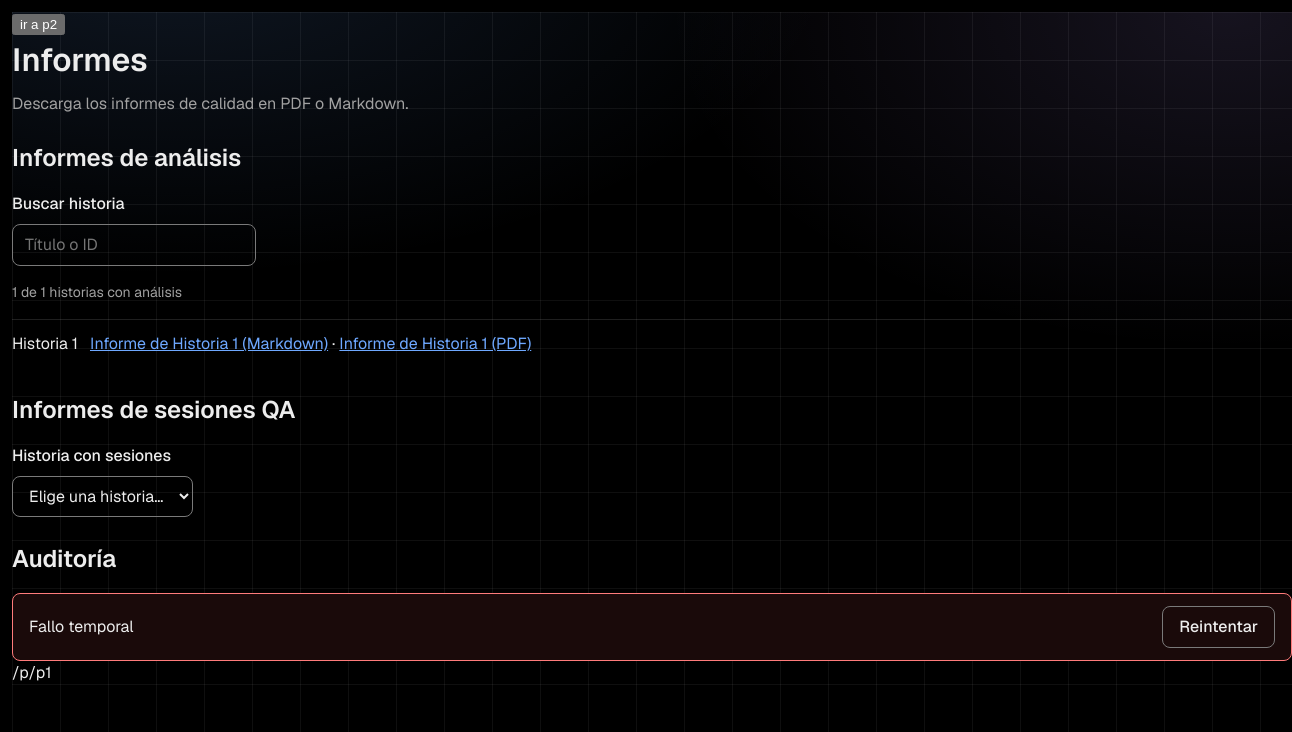
Test: ReportsPage › un error de auditoría permite reintentar
Expected: the message "Fallo temporal Reintentar" is shown, [12, 593, 1291, 661]
Click the button "Reintentar" at [1219, 627], box [1162, 606, 1275, 648]
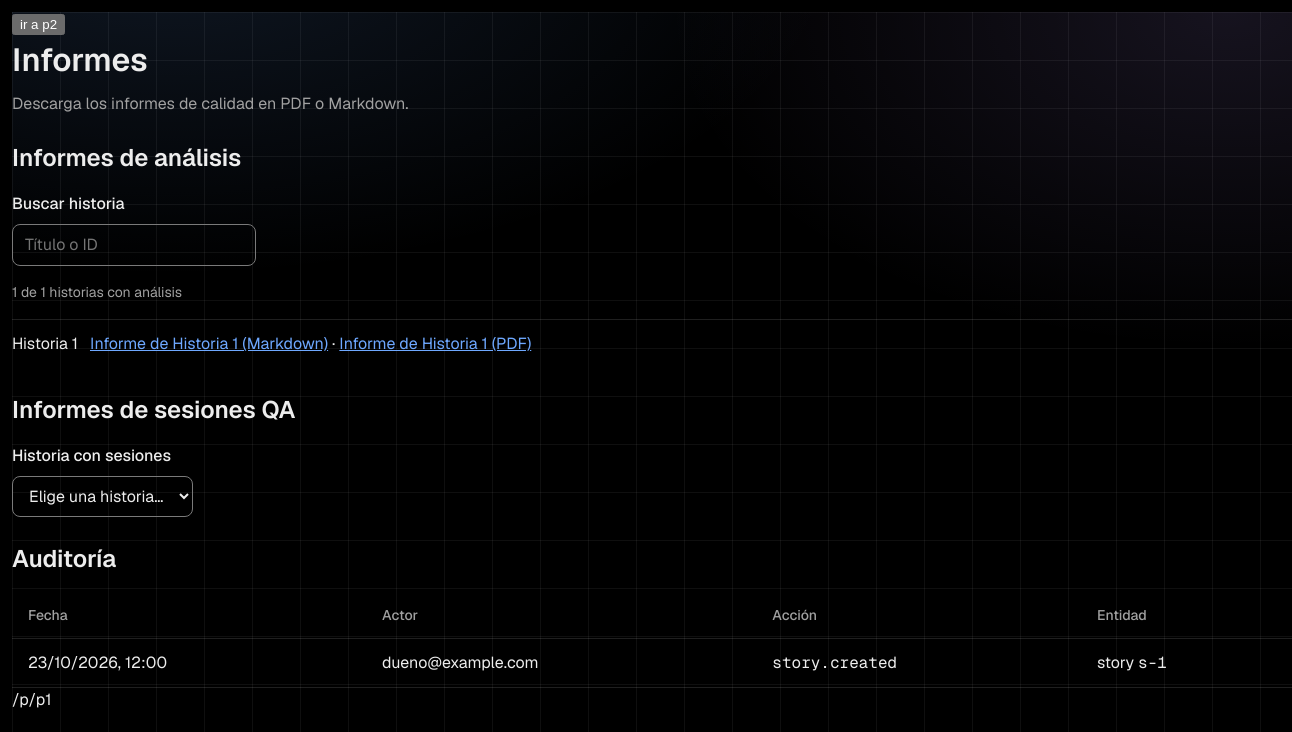
Expected: the table named "Auditoría" is shown, [12, 593, 1291, 688]
